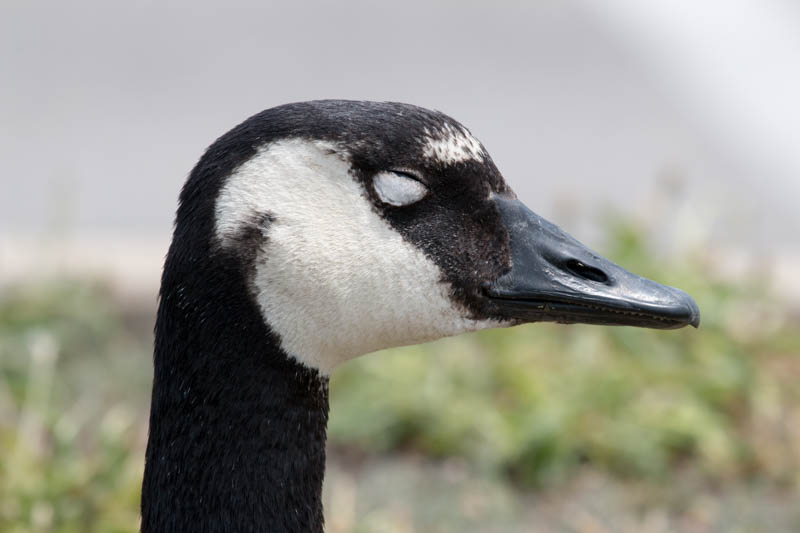goose-head: (153, 100, 699, 378)
